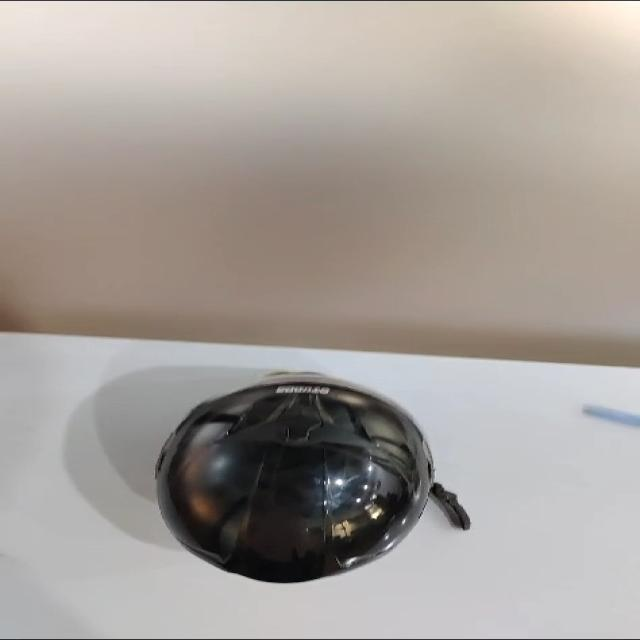helmet: (152, 362, 437, 574)
